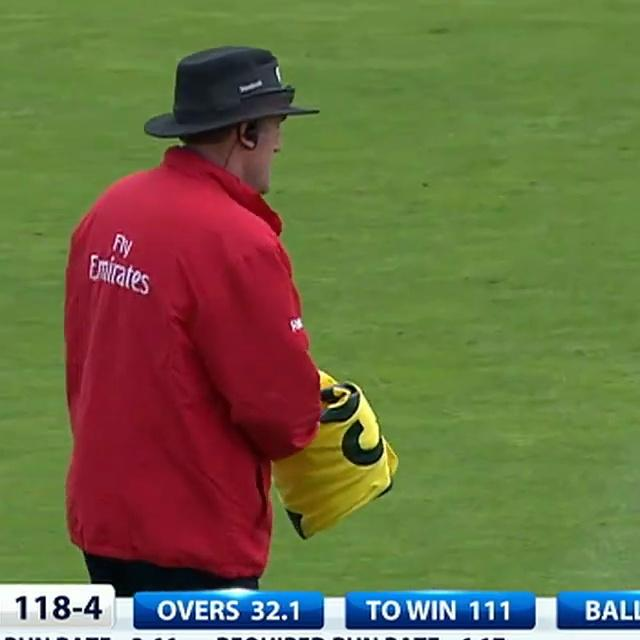umpire: (21, 16, 415, 593)
